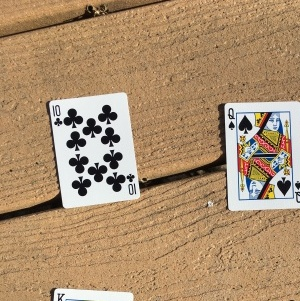card: (48, 91, 143, 210)
